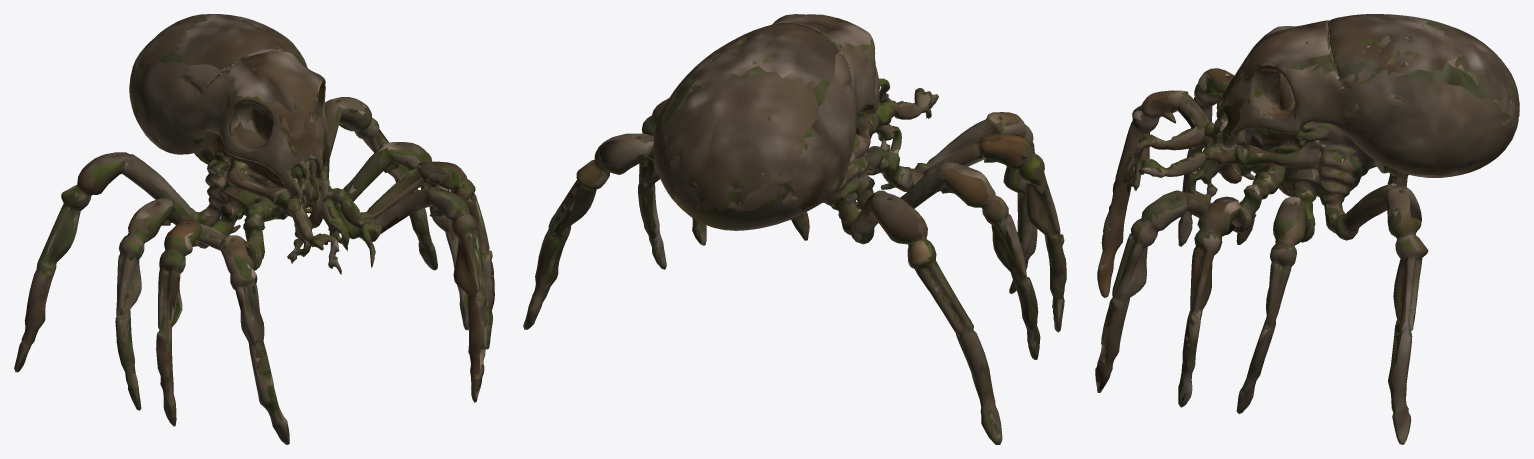
The model's file is bone_crawler.glb.
The picture shows the model from 3 angles, left to right: view 1: azimuth 30°, elevation 25°; view 2: azimuth 150°, elevation 25°; view 3: azimuth 270°, elevation 25°; orthographic projection. The views are drawn at different scales.
Parts seen in each view (by area): view 1: Mesh1.0; view 2: Mesh1.0; view 3: Mesh1.0.
Part boxes in pixels (<box>): Mesh1.0: <box>14,14,494,444</box>; Mesh1.0: <box>523,14,1066,444</box>; Mesh1.0: <box>1095,14,1519,444</box>.
Size of the model in its own units: 1.91 by 1.31 by 1.58.
Materials: 1 (1 with a texture image).
